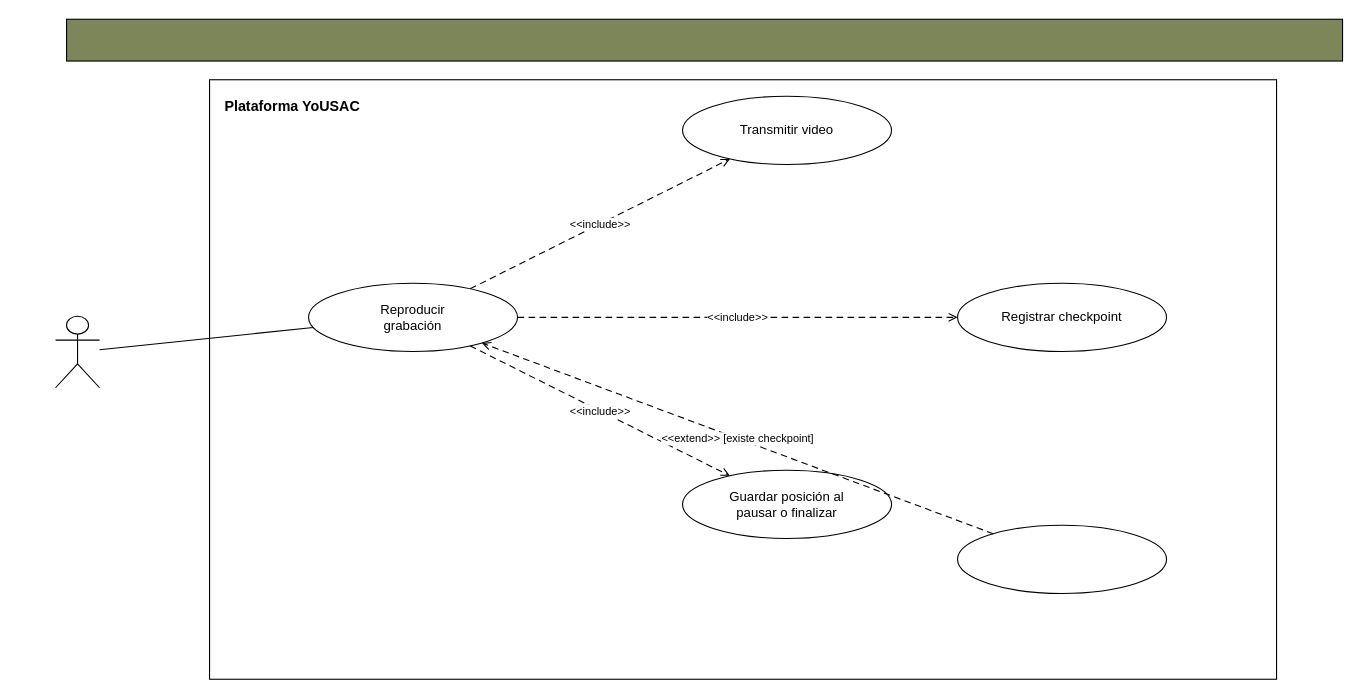
Image size: 1362x699. Some labels were removed from this diagram. Here are the shapes that lost their labels. From the top down, the centre of each, then its label:
At point (704, 39): "Plataforma YoUSAC — CU-RP-01 — Reproducir grabación".
At point (77, 351): "Usuario institucional".
At point (1061, 558): "Reanudar grabación".
